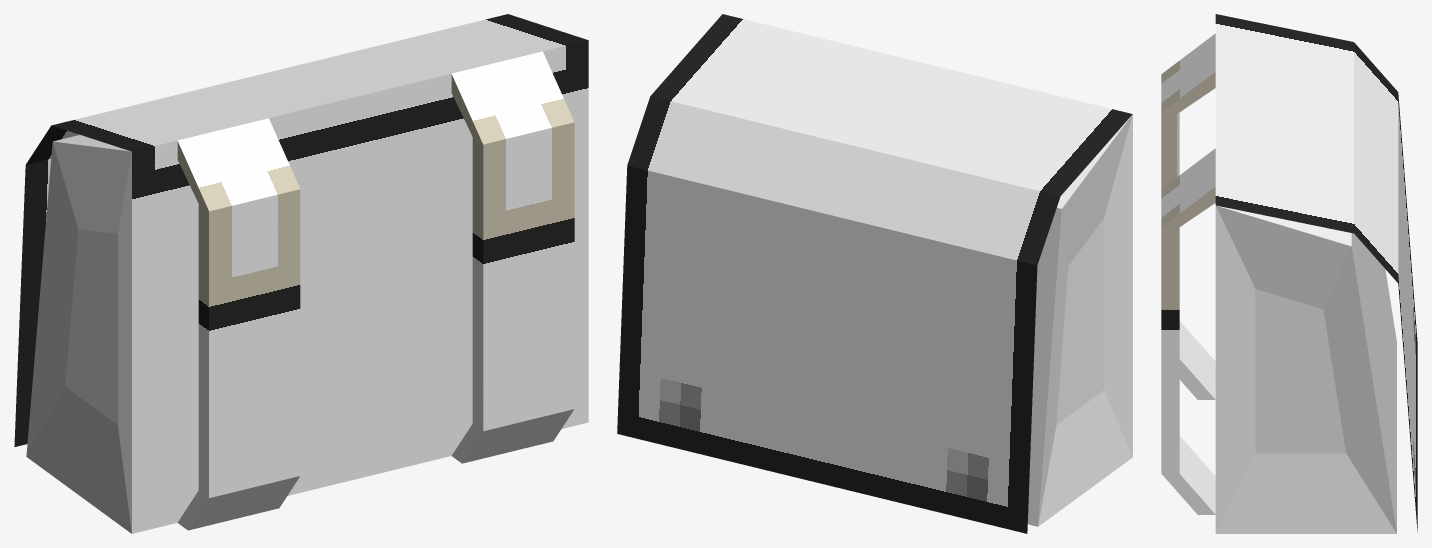
File: loot.gltf
3 renders of one model, left to right at view 1: azimuth 30°, elevation 25°; view 2: azimuth 150°, elevation 25°; view 3: azimuth 270°, elevation 25°, orthographic. The views are drawn at different scales.
Visible parts, largest first — view 1: mesh (×3); view 2: mesh; view 3: mesh (×3).
Part boxes in pixels (left/top/right/bottom): mesh (×3): left=14, top=14, right=588, bottom=533; mesh: left=617, top=14, right=1132, bottom=533; mesh (×3): left=1161, top=14, right=1417, bottom=533.
Bounding box in the file's own units: 0.3125 × 0.25 × 0.1766.
2 materials, 2 textured.
